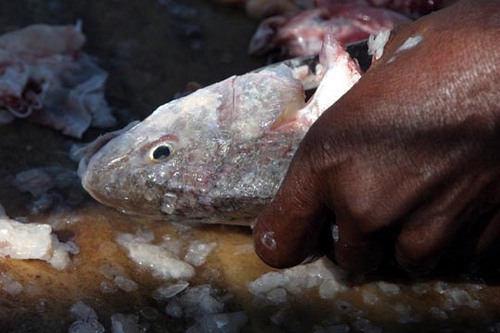fish: (79, 46, 397, 225), (251, 1, 411, 59)
